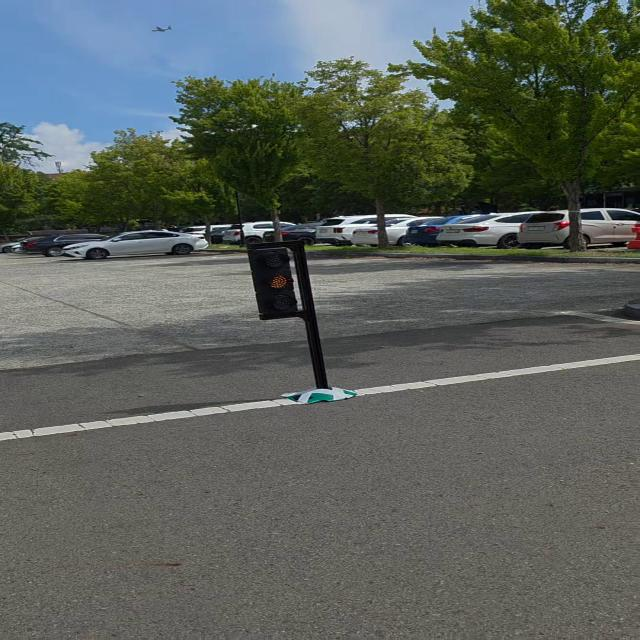yellow: (249, 252, 304, 316)
